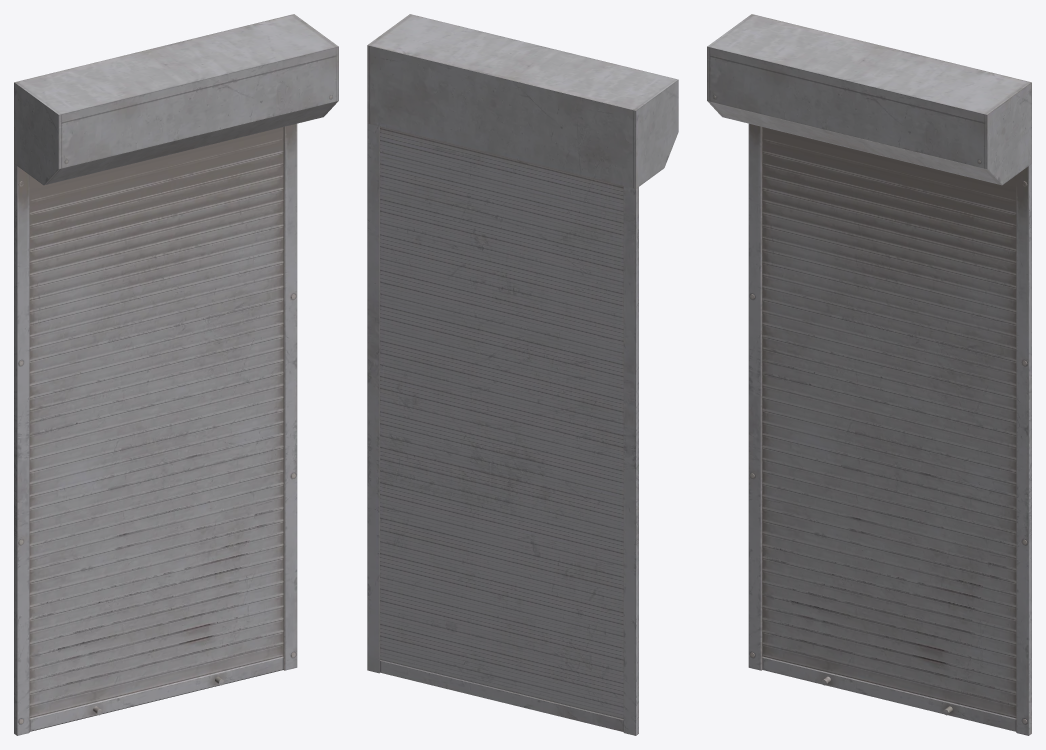
The model's file is rollershutter_door.glb.
3 views of the same model, side by side, from view 1: azimuth 30°, elevation 25°; view 2: azimuth 150°, elevation 25°; view 3: azimuth 330°, elevation 25° (orthographic). The views are drawn at different scales.
Parts seen in each view (by area): view 1: rollershutter_door; view 2: rollershutter_door; view 3: rollershutter_door.
Boxes of the visible parts, bbox=[...] form: rollershutter_door: bbox=[14, 14, 338, 735]; rollershutter_door: bbox=[367, 14, 678, 735]; rollershutter_door: bbox=[707, 14, 1031, 735].
Bounding box in the file's own units: 1.08 × 2.4 × 0.3.
Materials: 1 (1 with a texture image).
